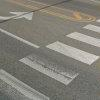Crosswalk: (4, 42, 99, 98)
